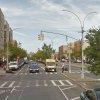Crosswalk: (5, 75, 78, 99)
